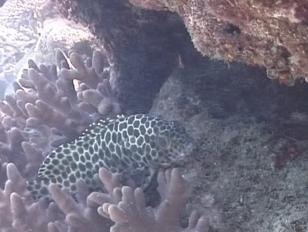Serranidae -Groupers-: (26, 112, 193, 211)
